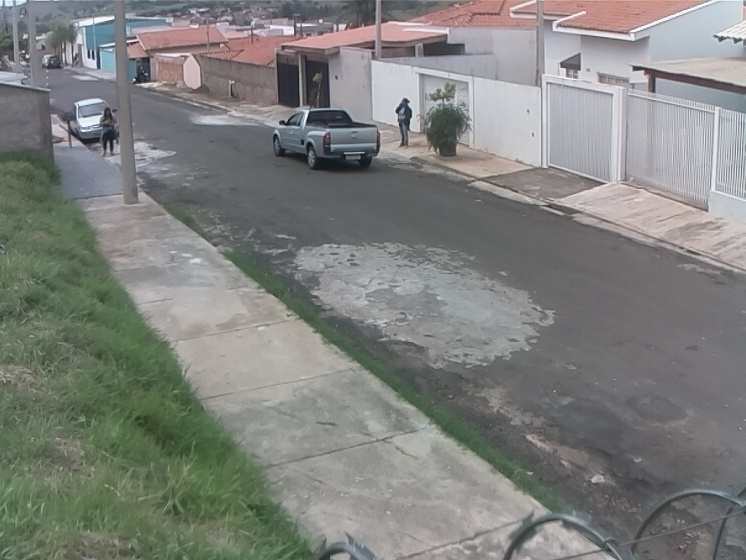person: (97, 106, 123, 157), (394, 98, 412, 152)
